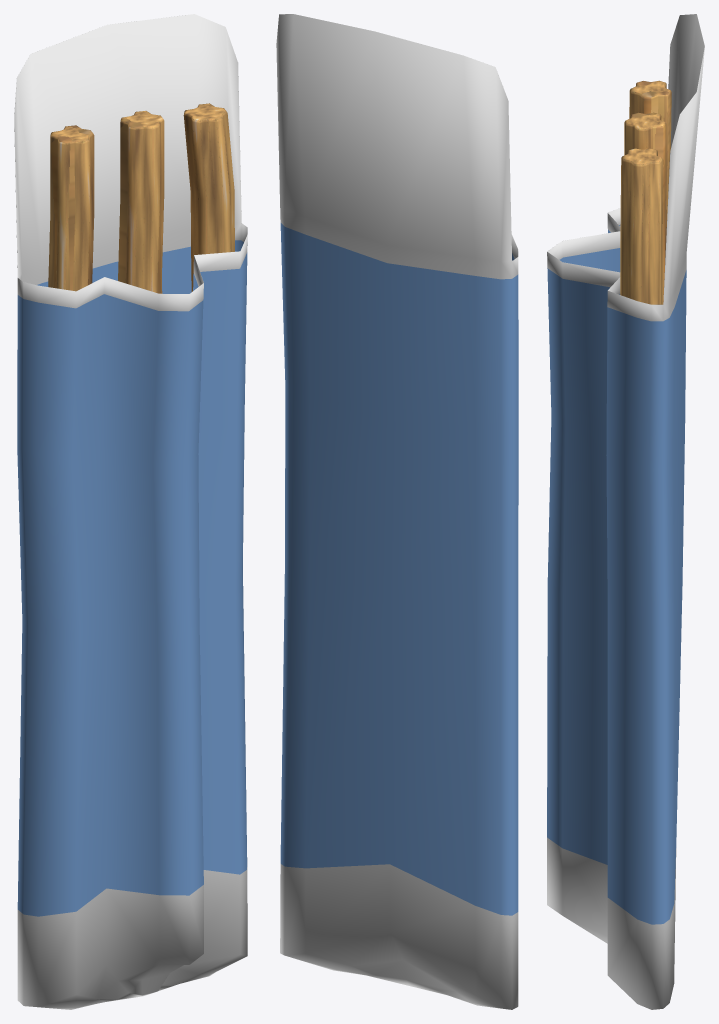
File: Churro.fbx
The picture shows the model from 3 angles, left to right: view 1: azimuth 30°, elevation 25°; view 2: azimuth 150°, elevation 25°; view 3: azimuth 270°, elevation 25°; orthographic projection. The views are drawn at different scales.
Visible parts, largest first — view 1: paper, churro.003, churro.002, churro.001; view 2: paper; view 3: paper, churro.001, churro.003, churro.002.
Part boxes in pixels (bbox=[...]): paper: bbox=[14, 14, 247, 1009]; churro.003: bbox=[118, 111, 164, 293]; churro.002: bbox=[48, 125, 94, 291]; churro.001: bbox=[183, 103, 234, 291]; paper: bbox=[276, 14, 518, 1009]; paper: bbox=[547, 14, 704, 1009]; churro.001: bbox=[620, 148, 663, 304]; churro.003: bbox=[624, 112, 666, 304]; churro.002: bbox=[629, 80, 671, 226].
Bounding box in the file's own units: 11.01 × 44.36 × 6.88.
Materials: 3 (1 with a texture image).
